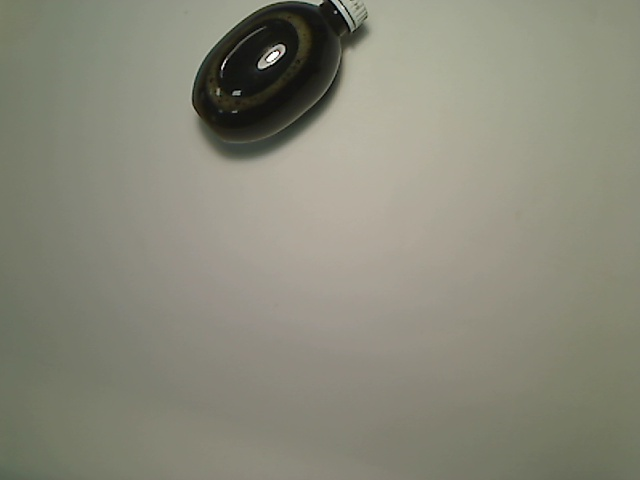plast_bottle: (189, 1, 373, 147)
